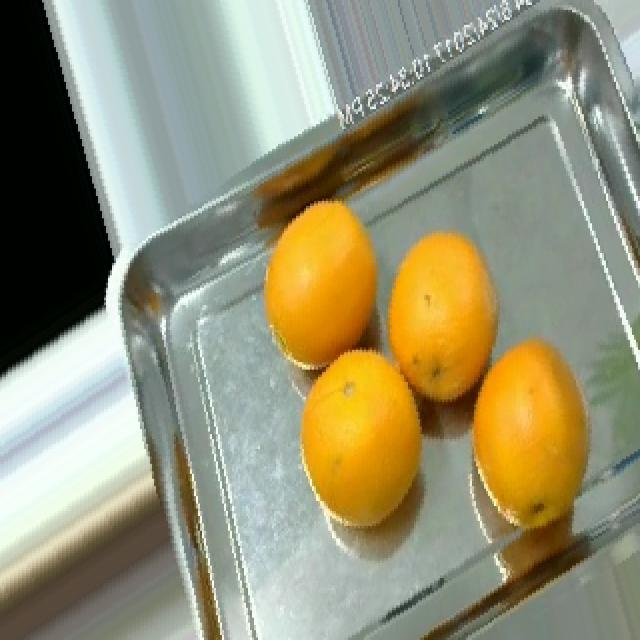Good_Orange: (472, 337, 592, 536), (300, 350, 422, 528), (264, 201, 380, 372), (386, 231, 498, 407)
